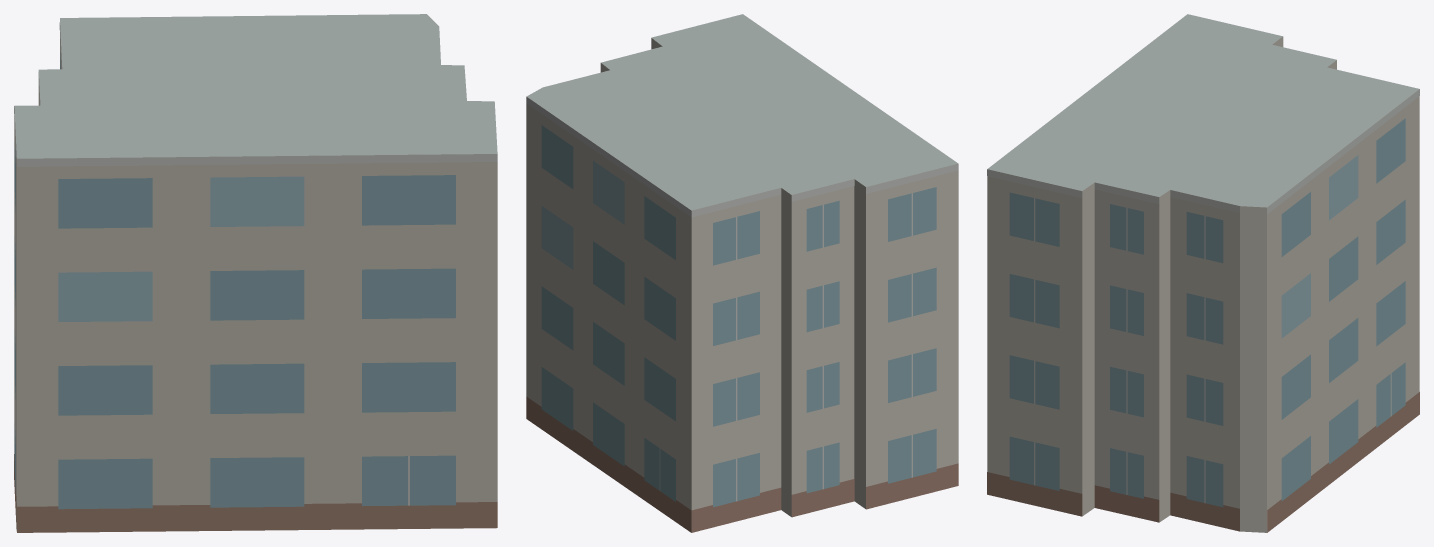
The model's file is survey-upis-32674466.glb.
3 renders of one model, left to right at view 1: azimuth 30°, elevation 25°; view 2: azimuth 150°, elevation 25°; view 3: azimuth 270°, elevation 25°, orthographic. The views are drawn at different scales.
Parts seen in each view (by area): view 1: survey-upis-32674466.tmp; view 2: survey-upis-32674466.tmp; view 3: survey-upis-32674466.tmp.
Boxes of the visible parts, left/top/right/bottom form: survey-upis-32674466.tmp: left=14, top=14, right=497, bottom=532; survey-upis-32674466.tmp: left=526, top=14, right=958, bottom=532; survey-upis-32674466.tmp: left=987, top=14, right=1419, bottom=532.
Bounding box in the file's own units: 14.54 × 11.4 × 13.75.
